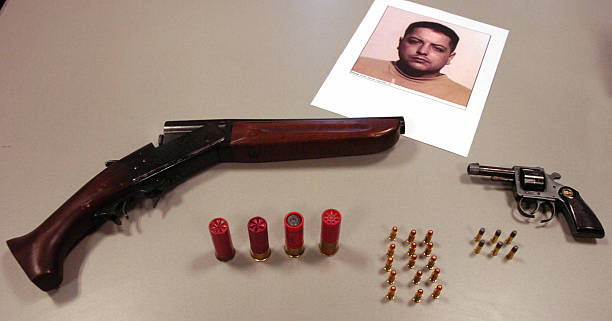pistol: (466, 162, 607, 238)
shotgun: (7, 115, 409, 306)
